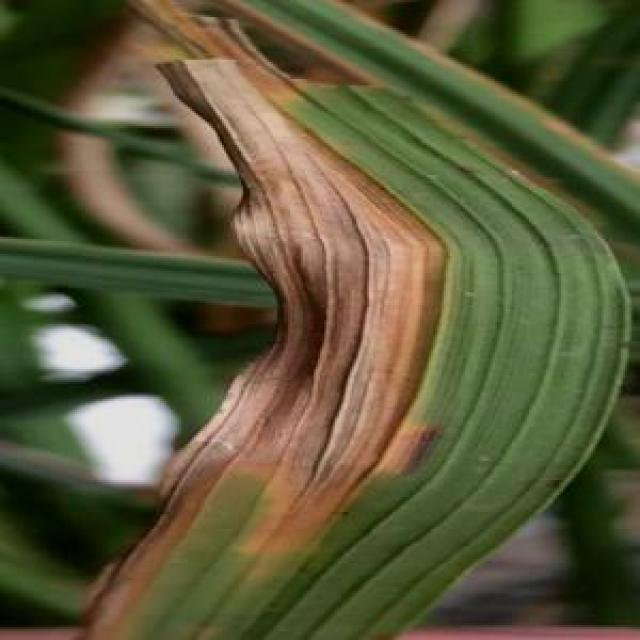Bacterial_Leaf_Blight: (213, 96, 593, 572)
